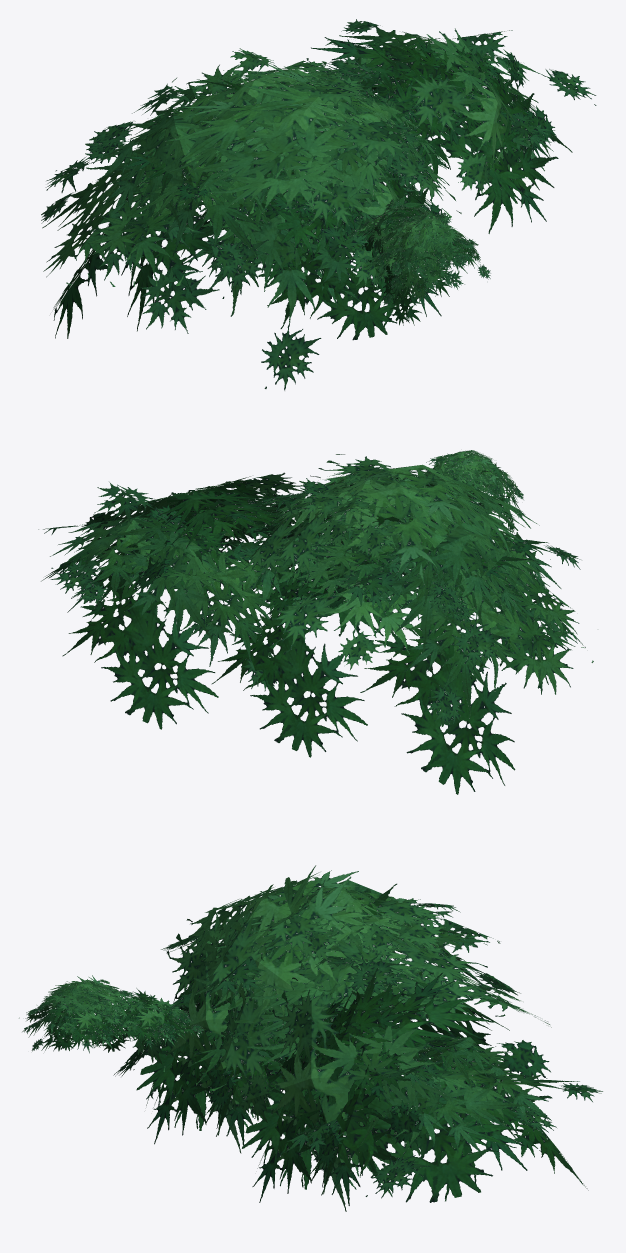
The model's file is Area_06_31.fbx.
3 views of the same model, one above another, from view 1: azimuth 30°, elevation 25°; view 2: azimuth 150°, elevation 25°; view 3: azimuth 270°, elevation 25° (orthographic). The views are drawn at different scales.
Parts seen in each view (by area): view 1: Area_06_31; view 2: Area_06_31; view 3: Area_06_31.
Part boxes in pixels (left/top/right/bottom): Area_06_31: left=41, top=19, right=596, bottom=390; Area_06_31: left=38, top=450, right=593, bottom=794; Area_06_31: left=19, top=865, right=602, bottom=1211.
Size of the model in its own units: 3346 by 1588 by 2724.
